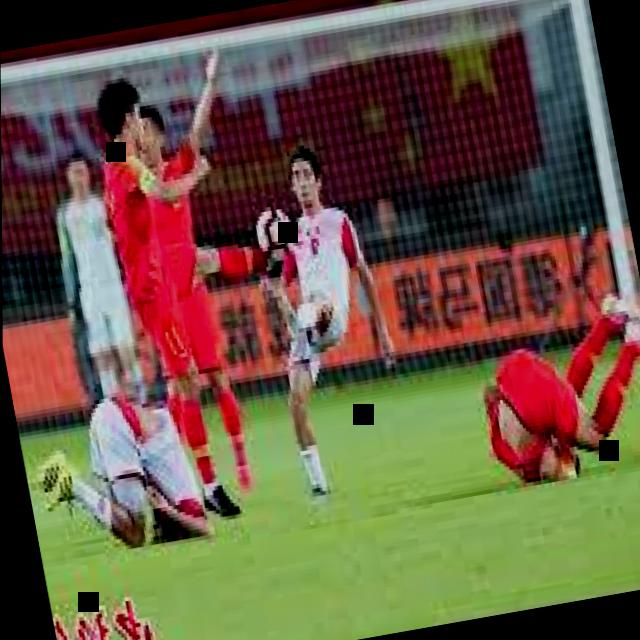Fall-Detected: (13, 360, 237, 568)
